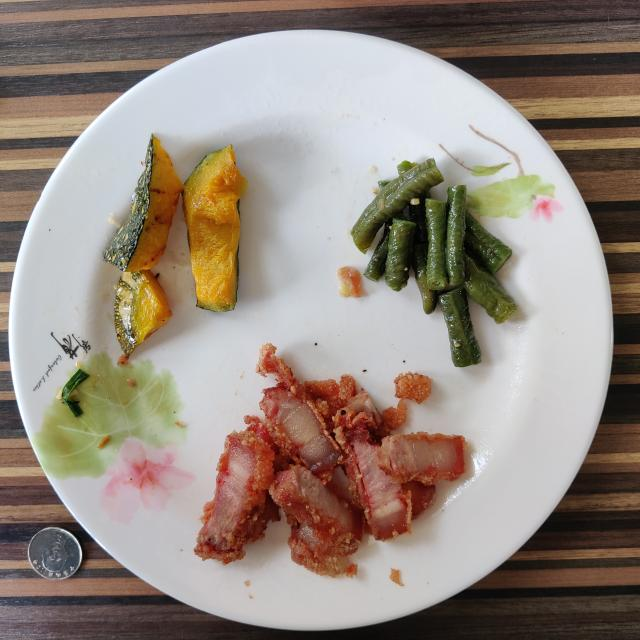coin: (28, 528, 82, 580)
pumpkin: (104, 135, 246, 356)
red grilled pork: (195, 344, 465, 576)
